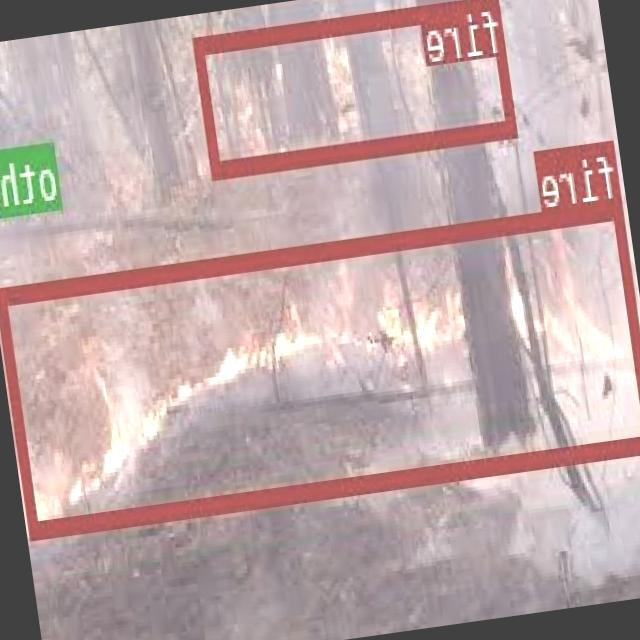fire: (0, 198, 640, 535), (195, 0, 519, 175)
